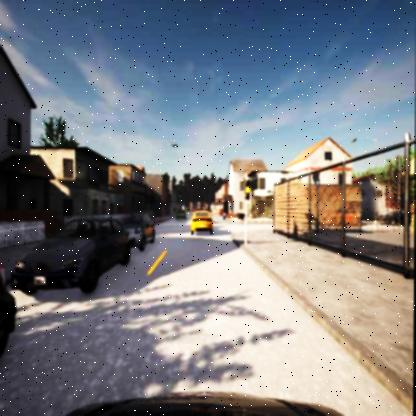vehicle: (11, 218, 134, 292), (118, 212, 156, 248), (191, 211, 214, 235)
